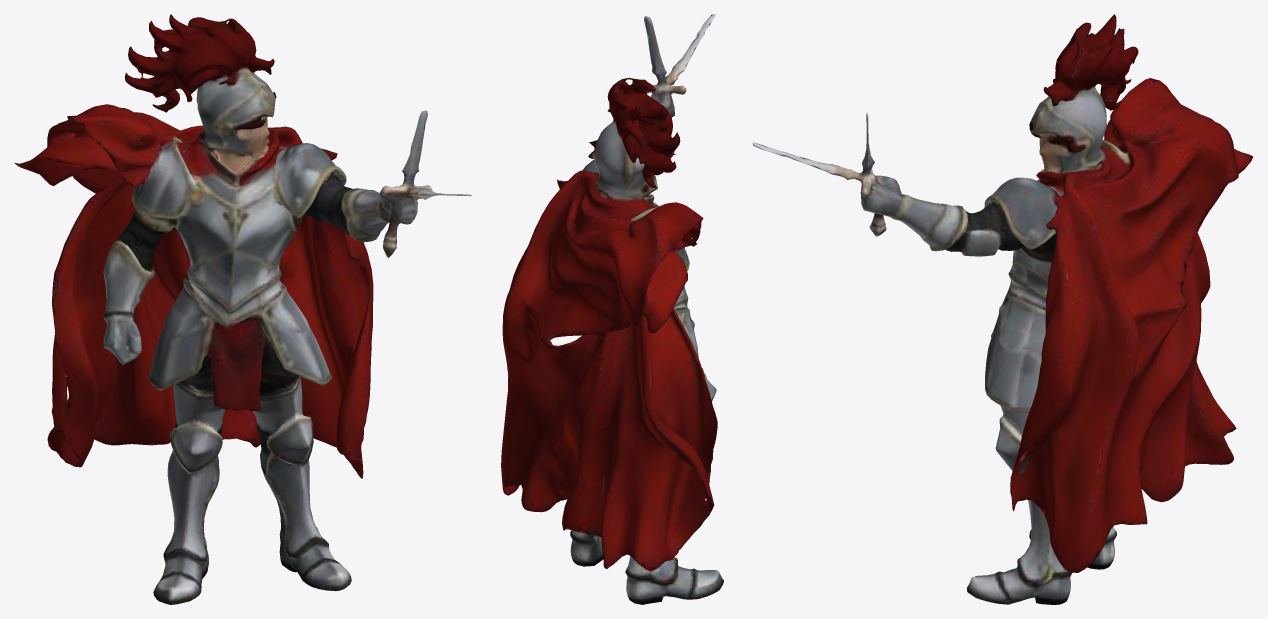
File: knight.glb
3 renders of one model, left to right at view 1: azimuth 30°, elevation 25°; view 2: azimuth 150°, elevation 25°; view 3: azimuth 270°, elevation 25°, orthographic. The views are drawn at different scales.
Size of the model in its own units: 0.4085 by 0.8015 by 0.6725.
1 material, 1 textured.
